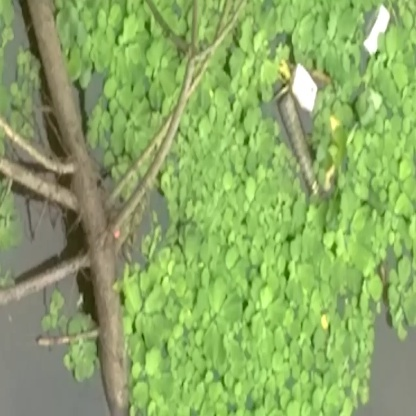branch: (23, 3, 139, 403)
